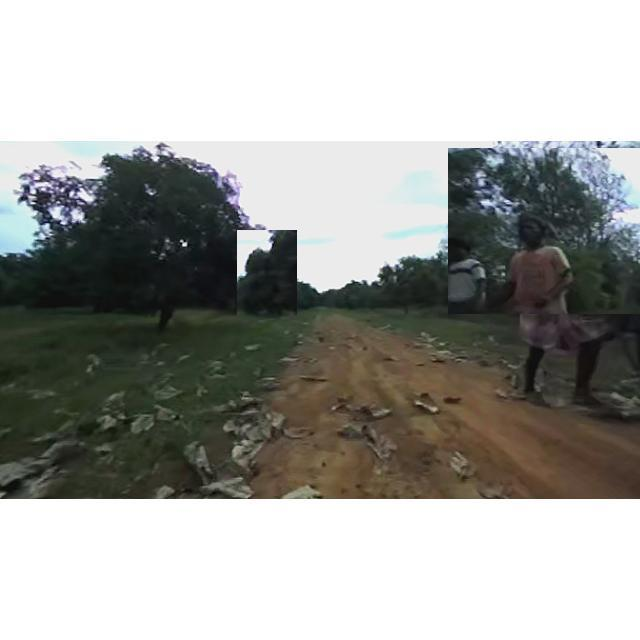direk: (2, 144, 302, 336), (448, 148, 640, 314), (368, 244, 448, 316), (237, 230, 297, 320)
